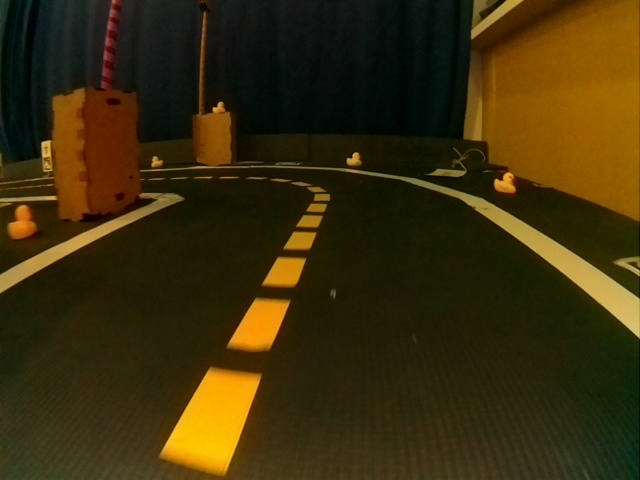Duckie: (7, 205, 35, 239), (495, 172, 517, 193), (346, 152, 362, 166), (151, 156, 163, 168), (213, 102, 225, 113)
Intersection sign: (42, 142, 51, 155)
QR code: (42, 157, 52, 171)
